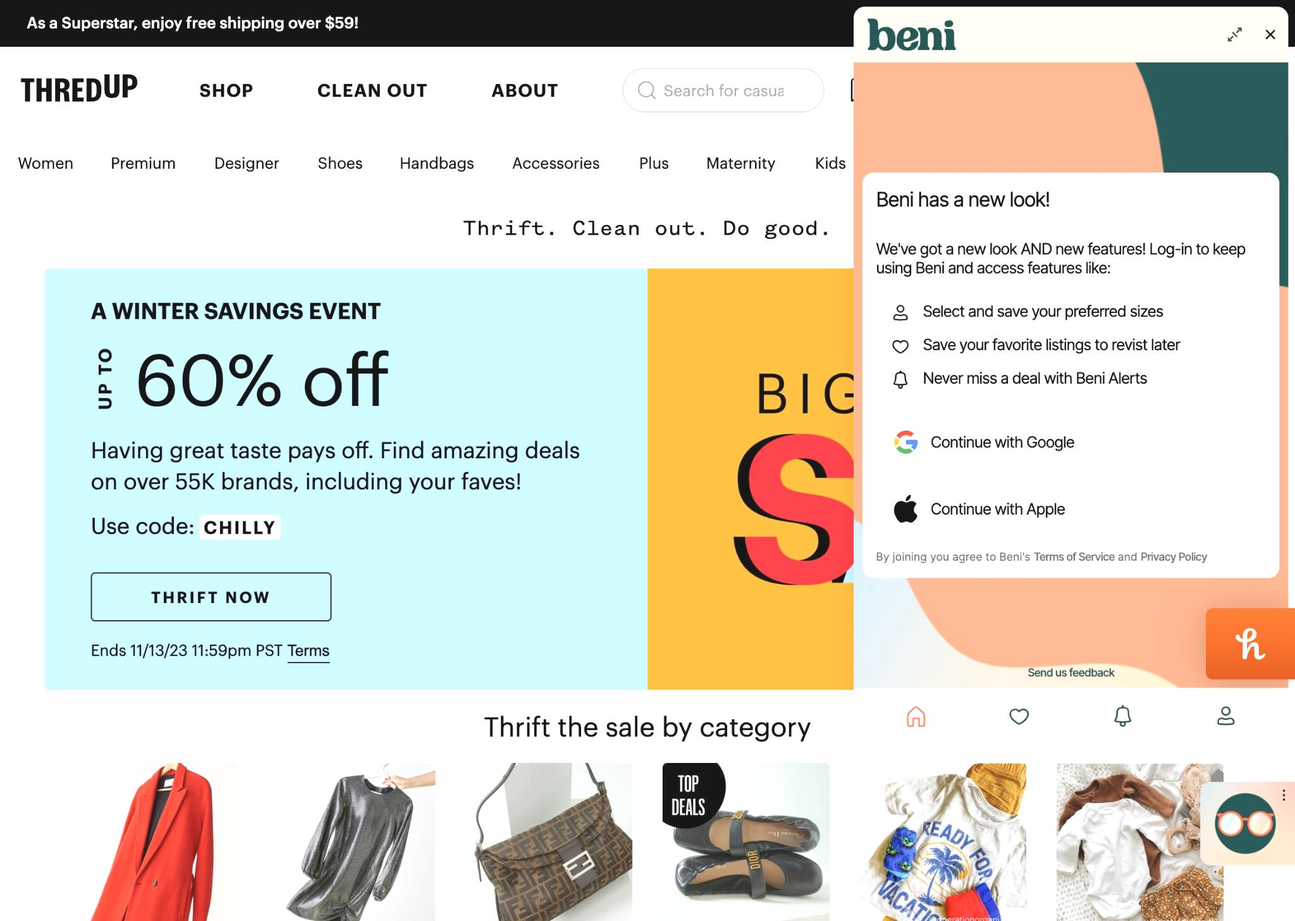webelement: (647, 267, 1249, 688), (996, 218, 1249, 472), (17, 0, 849, 43), (486, 415, 807, 506), (70, 762, 237, 921), (267, 762, 434, 921), (465, 762, 632, 921), (661, 762, 828, 921), (858, 762, 1025, 921), (1055, 762, 1222, 921), (1080, 278, 1290, 350), (17, 0, 366, 43), (872, 278, 1080, 350), (285, 46, 458, 132), (90, 572, 331, 620), (458, 46, 590, 132), (44, 594, 218, 655), (915, 136, 1018, 239), (166, 46, 285, 132), (1054, 165, 1246, 216), (622, 67, 824, 111), (1091, 133, 1233, 191), (1108, 67, 1276, 111), (493, 133, 616, 191), (381, 133, 491, 191), (688, 133, 792, 191), (26, 12, 358, 30), (92, 133, 193, 191), (195, 133, 295, 191), (988, 133, 1088, 191), (755, 558, 942, 588), (44, 253, 219, 283), (0, 133, 90, 191), (44, 389, 209, 419), (299, 133, 379, 191), (44, 321, 195, 351), (44, 525, 194, 555), (755, 388, 900, 418), (43, 560, 179, 589), (796, 133, 862, 191), (621, 133, 686, 191), (754, 354, 875, 384), (754, 287, 873, 316), (273, 388, 388, 418), (17, 73, 139, 101), (44, 354, 155, 384), (44, 491, 152, 521), (579, 12, 758, 30), (44, 457, 146, 486), (44, 218, 138, 248), (1112, 13, 1276, 30), (44, 424, 135, 454), (755, 490, 841, 520), (414, 287, 502, 316), (755, 457, 840, 486), (273, 593, 354, 622), (273, 252, 351, 282), (273, 558, 349, 588), (907, 369, 1005, 392), (907, 464, 1005, 487), (415, 252, 489, 282), (44, 287, 120, 316), (924, 110, 1033, 129), (755, 525, 824, 555), (273, 354, 340, 384), (555, 287, 624, 316), (199, 514, 279, 539), (924, 89, 1013, 109), (762, 12, 841, 33), (273, 287, 330, 316), (754, 320, 807, 350), (555, 320, 607, 350), (755, 423, 807, 452), (907, 533, 972, 556), (273, 525, 321, 555), (499, 12, 578, 30), (755, 252, 802, 282), (415, 320, 459, 350), (907, 432, 963, 455), (993, 13, 1067, 30), (273, 490, 314, 520), (555, 388, 596, 418), (1046, 74, 1085, 105), (273, 423, 314, 452), (273, 457, 313, 486), (907, 400, 957, 423), (273, 320, 307, 350), (873, 86, 924, 104), (555, 252, 585, 282), (784, 74, 815, 103), (439, 15, 495, 31), (286, 641, 328, 662), (882, 153, 924, 171), (555, 354, 579, 384), (846, 76, 873, 102), (887, 77, 911, 101), (635, 78, 657, 100), (793, 74, 806, 103), (966, 12, 984, 30), (773, 434, 788, 449)
